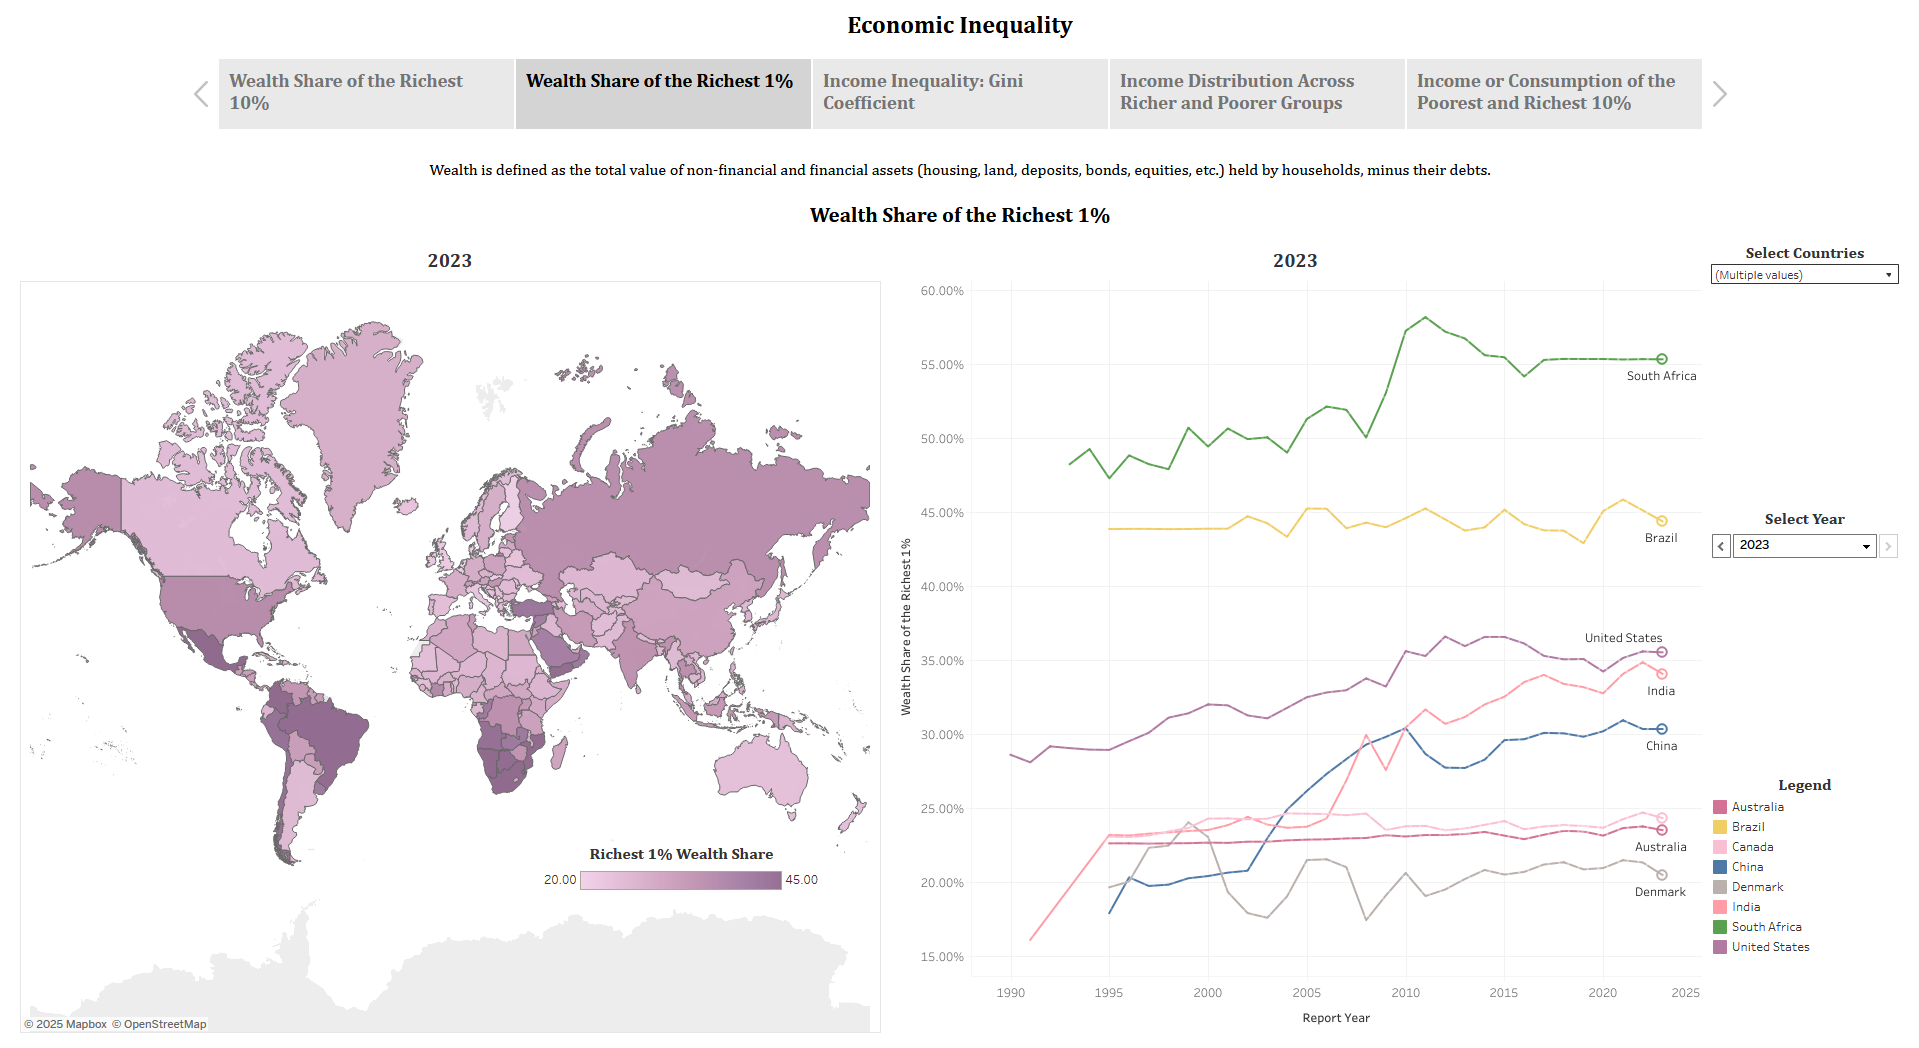

The dashboard page shown, as its layout file describes it:
{"tool":"tableau","page":{"name":"Wealth Share_1","canvas":[1000,1000],"units":"permille","ordinal":3},"visuals":[{"type":"text","box":[4.9,9.3,990.3,46.9]},{"type":"text","box":[4.9,56.2,990.3,52.4]},{"type":"worksheet","title":"Wealth_Share_Top_1_Map","mark":"Multipolygon","box":[4.9,108.6,456,882]},{"type":"worksheet","title":"Wealth_Share_Top_1_Line","mark":"Automatic","rows":["richest_1_wealth_share"],"cols":["report_year"],"box":[460.8,108.6,430.5,882]},{"type":"filter","title":"Wealth_Share_Top_1_Line","param":"[federated.1qcdzq31n7pf661bkgw990npmmkm].[none:country:nk]","box":[891.3,108.6,103.8,294.4]},{"type":"currpage","title":"Wealth_Share_Top_1_Map","box":[891.3,403,103.8,294.4]},{"type":"legend","title":"Wealth_Share_Top_1_Line","param":"[federated.1qcdzq31n7pf661bkgw990npmmkm].[none:country:nk]","box":[891.3,697.4,103.8,293.2]},{"type":"legend","title":"Wealth_Share_Top_1_Map","param":"[federated.1qcdzq31n7pf661bkgw990npmmkm].[none:richest_1_wealth_share:qk]","box":[279.3,778,148.8,63.1]}]}

Visuals, with their boxes on the dashboard's canvas, which has no fixed pixel size, in thousandths of its width and height (x1, y1, x2, y2). These are canvas units, not pixel positions in the 1919x1048 screenshot, which may show the page scaled, cropped or inside an application window:
text: <box>5,9,995,56</box>
text: <box>5,56,995,109</box>
"Wealth_Share_Top_1_Map" worksheet (Multipolygon marks): <box>5,109,461,991</box>
"Wealth_Share_Top_1_Line" worksheet: <box>461,109,891,991</box>
"Wealth_Share_Top_1_Line" filter: <box>891,109,995,403</box>
"Wealth_Share_Top_1_Map" currpage: <box>891,403,995,697</box>
"Wealth_Share_Top_1_Line" legend: <box>891,697,995,991</box>
"Wealth_Share_Top_1_Map" legend: <box>279,778,428,841</box>
